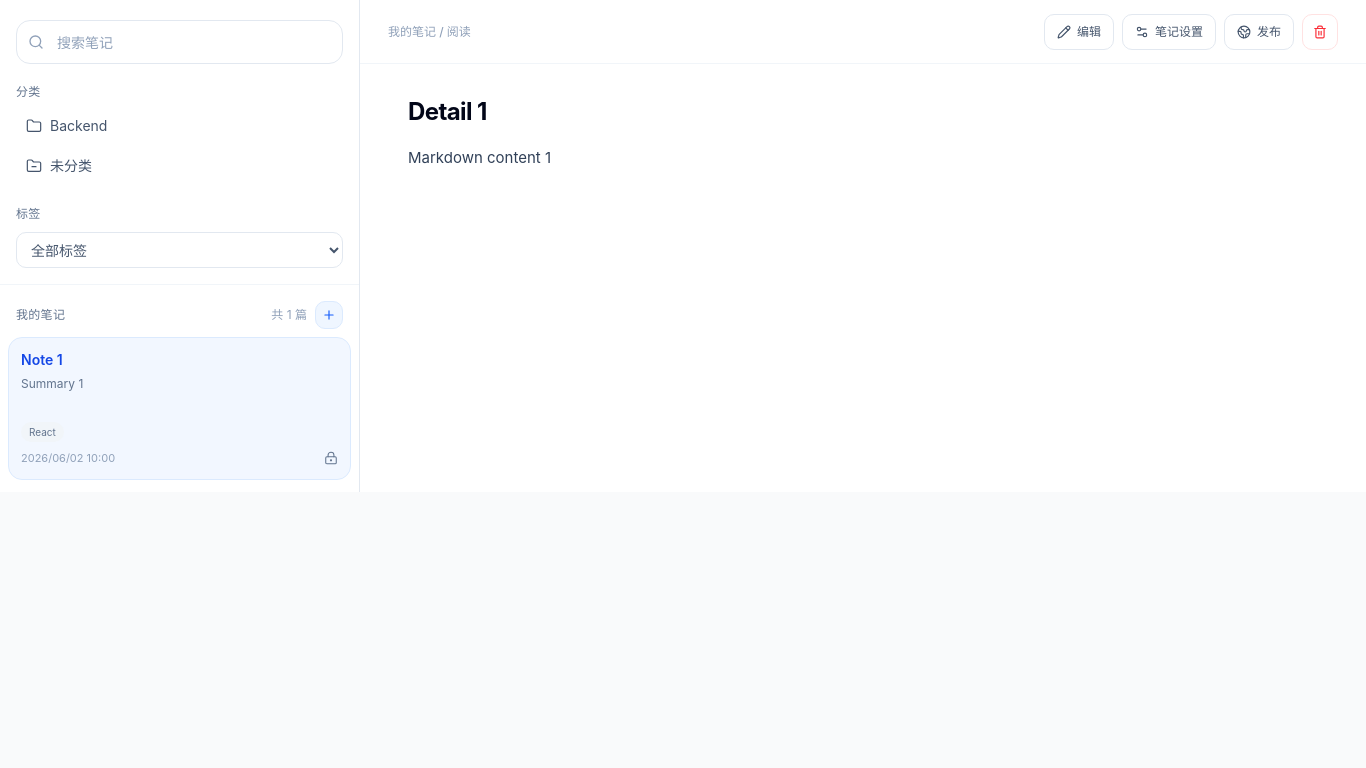
Test: NotesWorkspacePage › publishes, unpublishes, and deletes only after confirmation
This screenshot has width=1366, height=768.
Expected: the heading "Detail 1" is shown, [408,97,487,126]
Click the button "发布": {"x": 1259, "y": 32} [1224,14,1294,50]
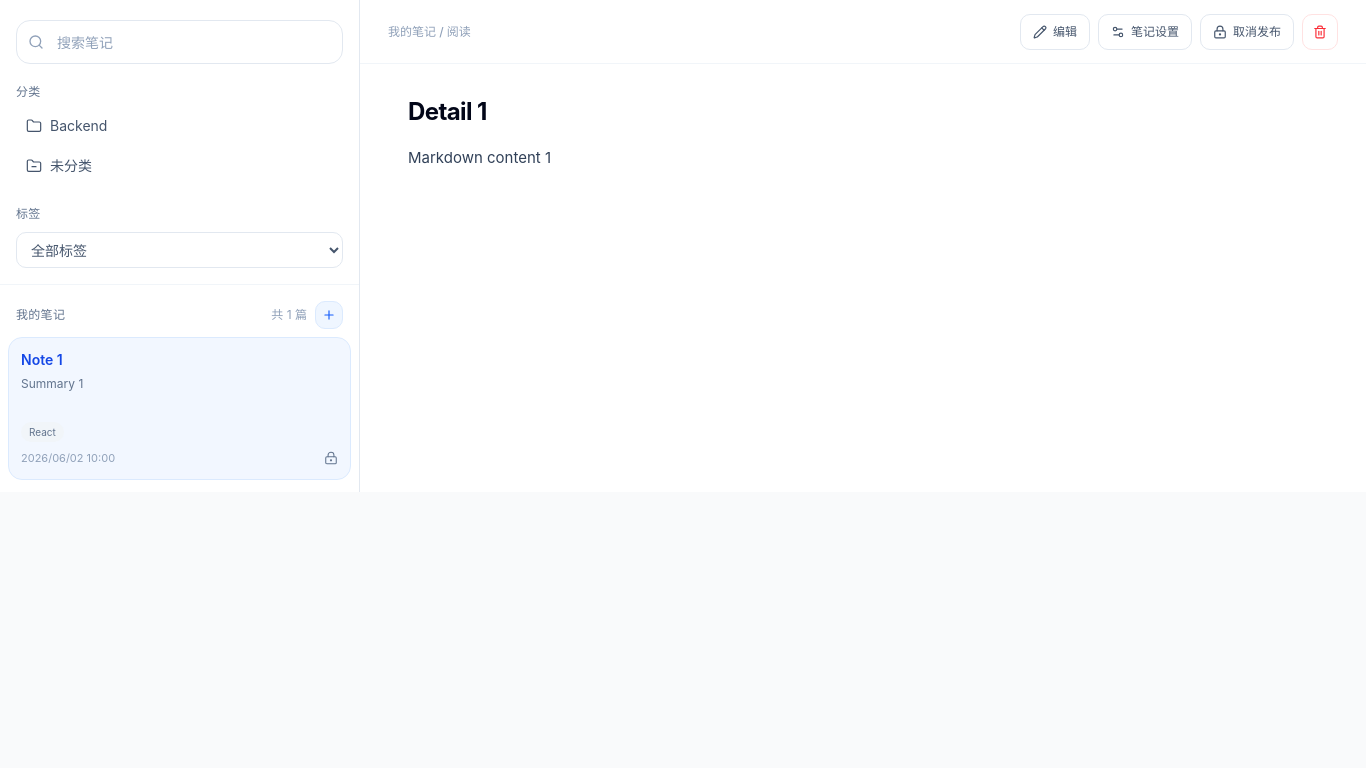
Expected: the button "取消发布" is shown
Click the button "取消发布": {"x": 1247, "y": 32} [1200,14,1294,50]
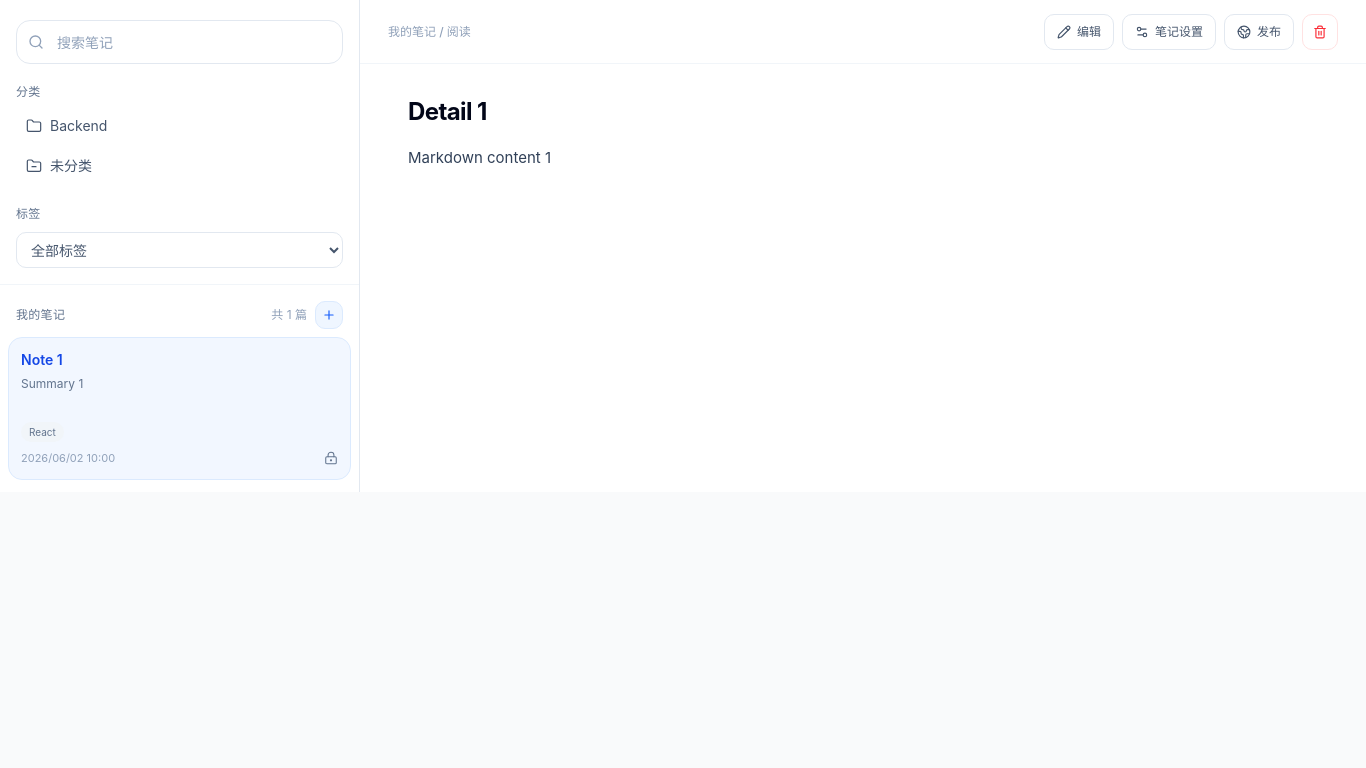
Expected: the button "发布" is shown, [1224,14,1294,50]
Click the button named "删除笔记": {"x": 1320, "y": 32} [1302,14,1338,50]
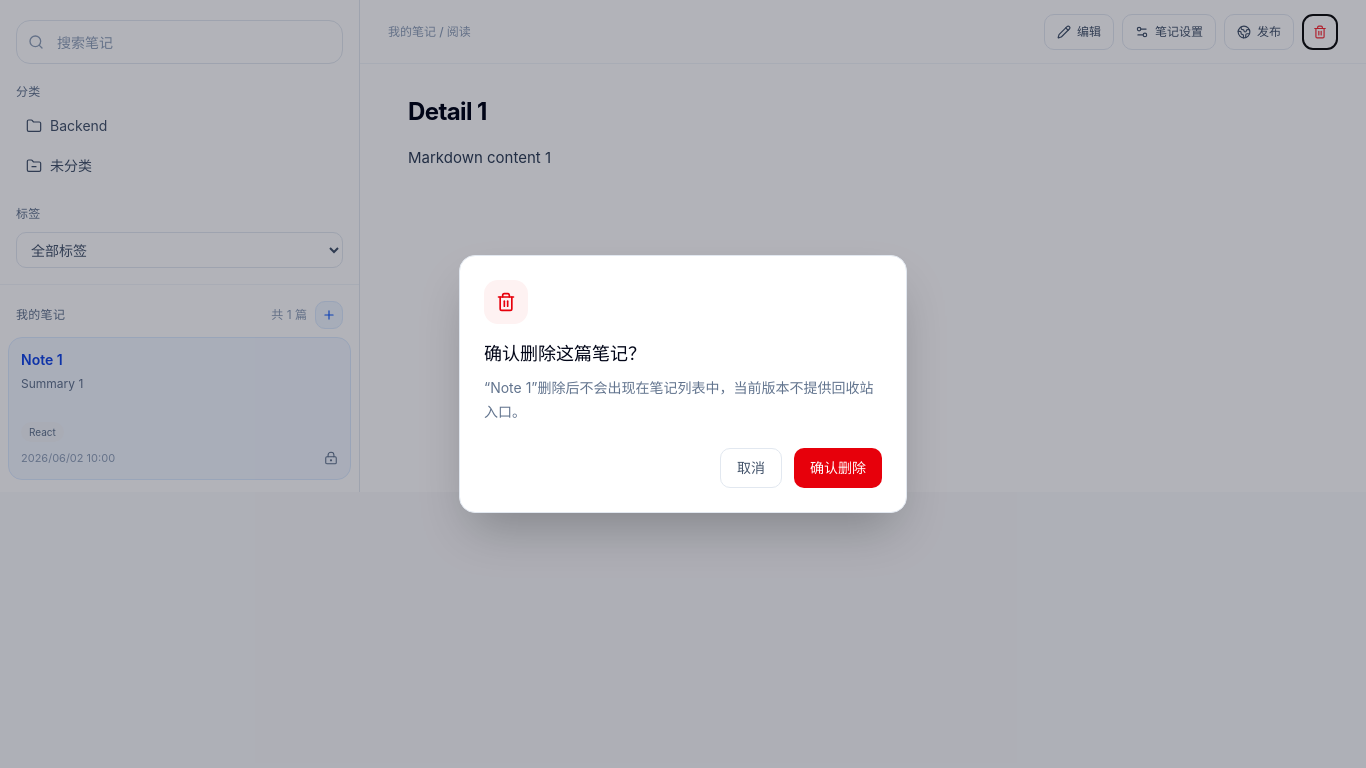
Expected: the dialog is shown
Click the button "取消": {"x": 751, "y": 468} [720,448,782,488]
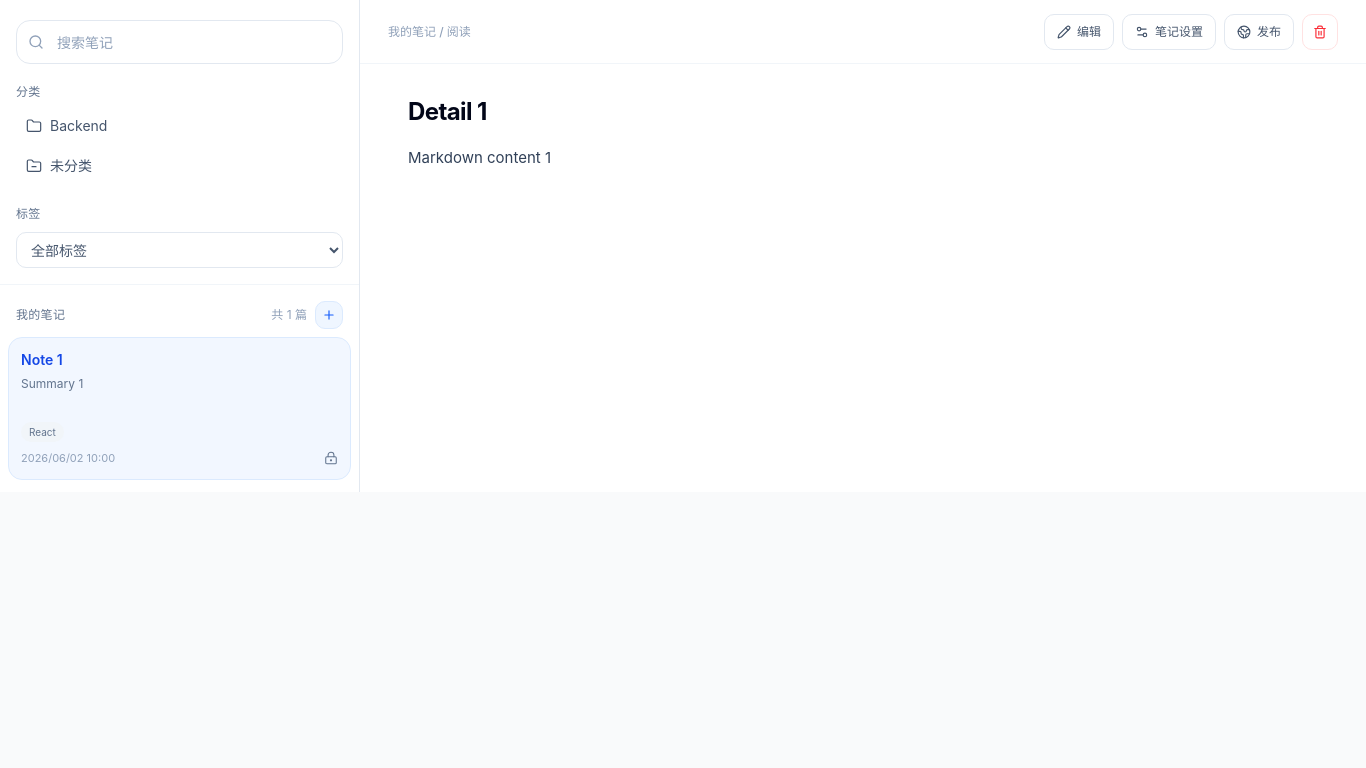
Click the button named "删除笔记": {"x": 1320, "y": 32} [1302,14,1338,50]
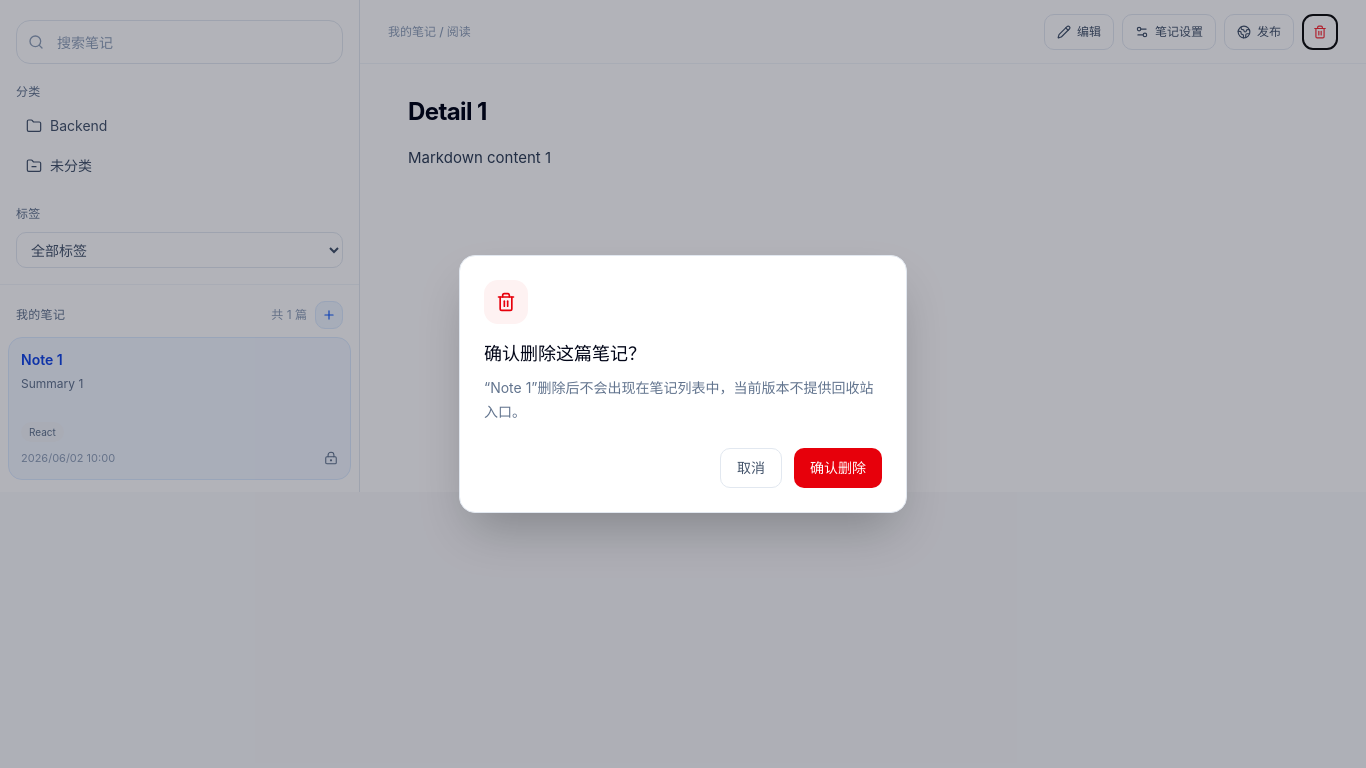
Click the button "确认删除": {"x": 838, "y": 468} [794,448,882,488]
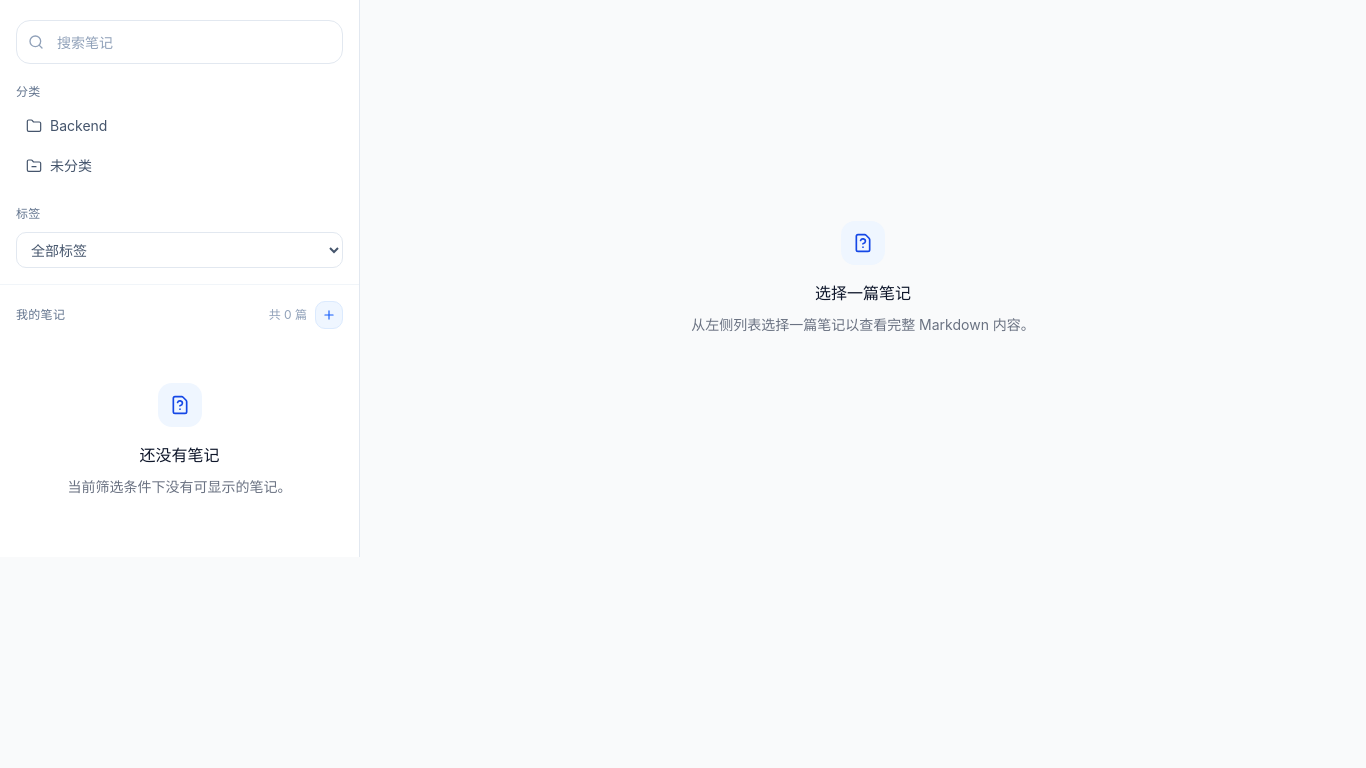
Expected: the heading "还没有笔记" is shown, [140,445,220,465]
Expected: the heading "选择一篇笔记" is shown, [815,282,911,302]
